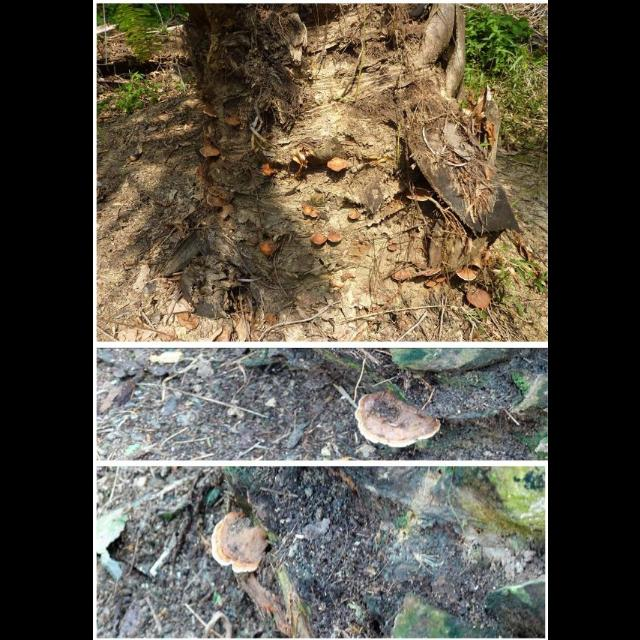ganoderma: (355, 388, 441, 449), (208, 511, 268, 575), (206, 185, 236, 209), (466, 289, 492, 310), (407, 186, 432, 204), (423, 275, 447, 290), (327, 158, 350, 173), (260, 239, 279, 257), (198, 146, 222, 160), (456, 269, 480, 282), (392, 270, 413, 284), (261, 164, 279, 178), (311, 234, 328, 248), (302, 205, 318, 219), (224, 117, 242, 129), (327, 232, 344, 244), (202, 107, 218, 119), (348, 209, 360, 222), (386, 245, 400, 253)
